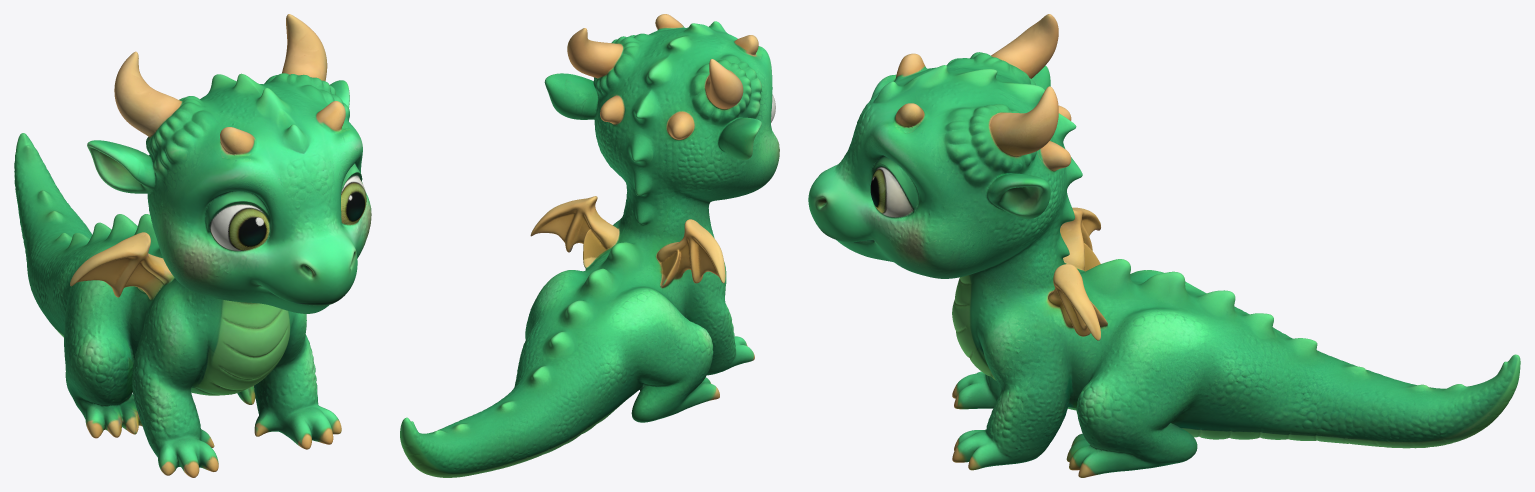
Rendered from 02_Emerald_Dragon_Baby.glb.
3 views of the same model, side by side, from view 1: azimuth 30°, elevation 25°; view 2: azimuth 150°, elevation 25°; view 3: azimuth 270°, elevation 25° (orthographic). The views are drawn at different scales.
Visible parts, largest first — view 1: mesh_node; view 2: mesh_node; view 3: mesh_node.
Boxes of the visible parts, x1,y1,x2,y2 form: mesh_node: [14, 14, 371, 477]; mesh_node: [400, 14, 779, 477]; mesh_node: [808, 14, 1520, 477].
Size of the model in its own units: 0.7659 by 1.12 by 1.9.
Materials: 1 (1 with a texture image).
